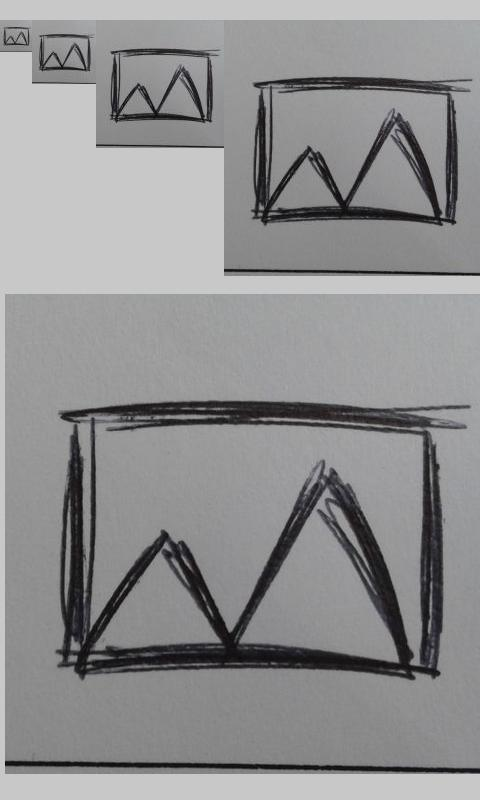image_view: (59, 400, 444, 680), (250, 76, 458, 226), (111, 44, 215, 124), (39, 34, 91, 72), (4, 27, 30, 46)
